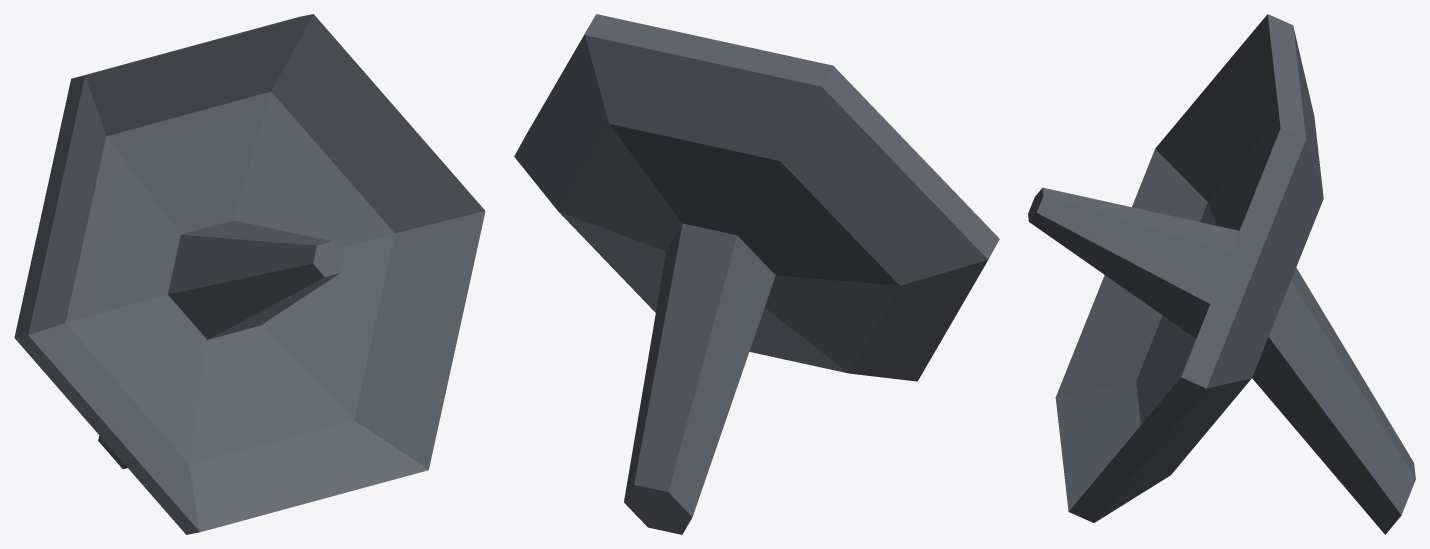
Rendered from Building_Objects_Antenna.fbx.
3 renders of one model, left to right at view 1: azimuth 30°, elevation 25°; view 2: azimuth 150°, elevation 25°; view 3: azimuth 270°, elevation 25°, orthographic.
Visible parts, largest first — view 1: Building_Objects_Antenna; view 2: Building_Objects_Antenna; view 3: Building_Objects_Antenna.
Boxes of the visible parts, <box> form: Building_Objects_Antenna: <box>14,14,485,534</box>; Building_Objects_Antenna: <box>514,14,999,534</box>; Building_Objects_Antenna: <box>1028,14,1415,534</box>.
Bounding box in the file's own units: 122 × 113 × 87.03.
